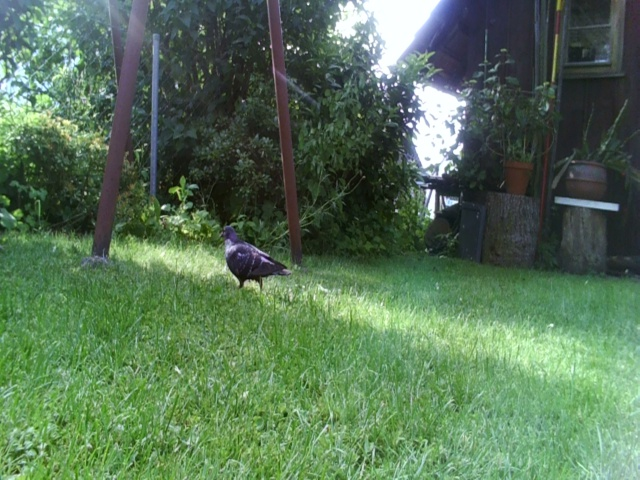Pigeon: (212, 222, 300, 298)
